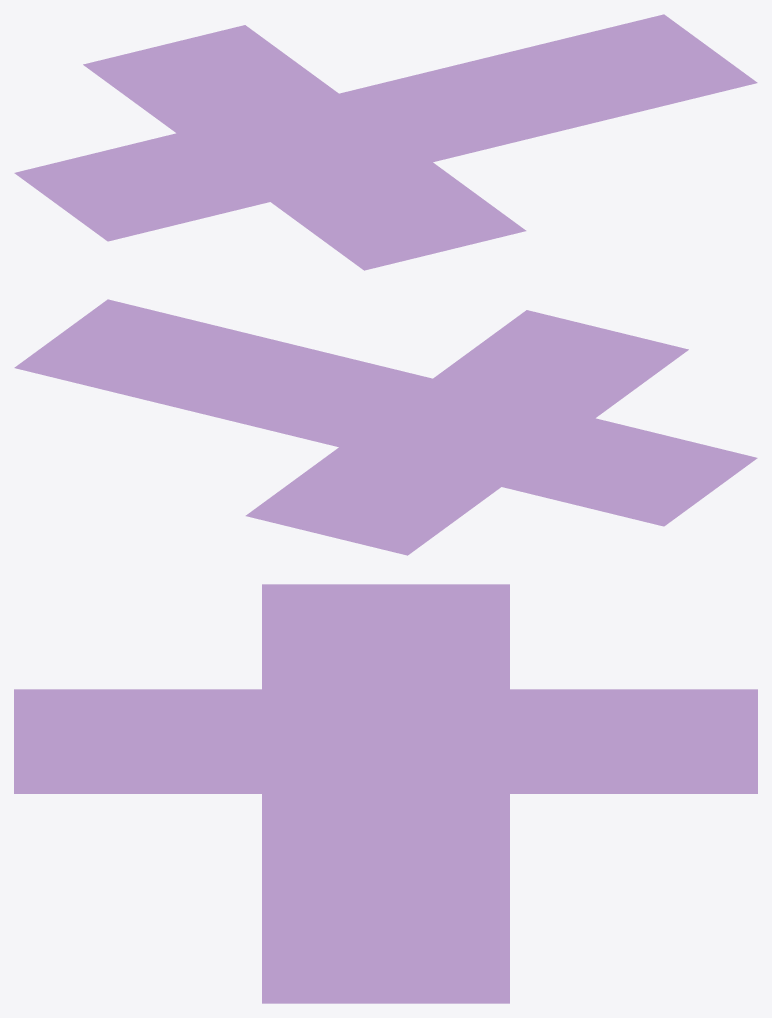
The model's file is diorama.glb.
The picture shows the model from 3 angles, top to bottom: view 1: azimuth 30°, elevation 25°; view 2: azimuth 150°, elevation 25°; view 3: azimuth 270°, elevation 25°; orthographic projection. The views are drawn at different scales.
Visible parts, largest first — view 1: terrain; view 2: terrain; view 3: terrain.
Part boxes in pixels (x1,y1,x2,y2): terrain: [14, 14, 757, 270]; terrain: [14, 299, 757, 555]; terrain: [14, 584, 757, 1003].
Size of the model in its own units: 8 by 0 by 6.
